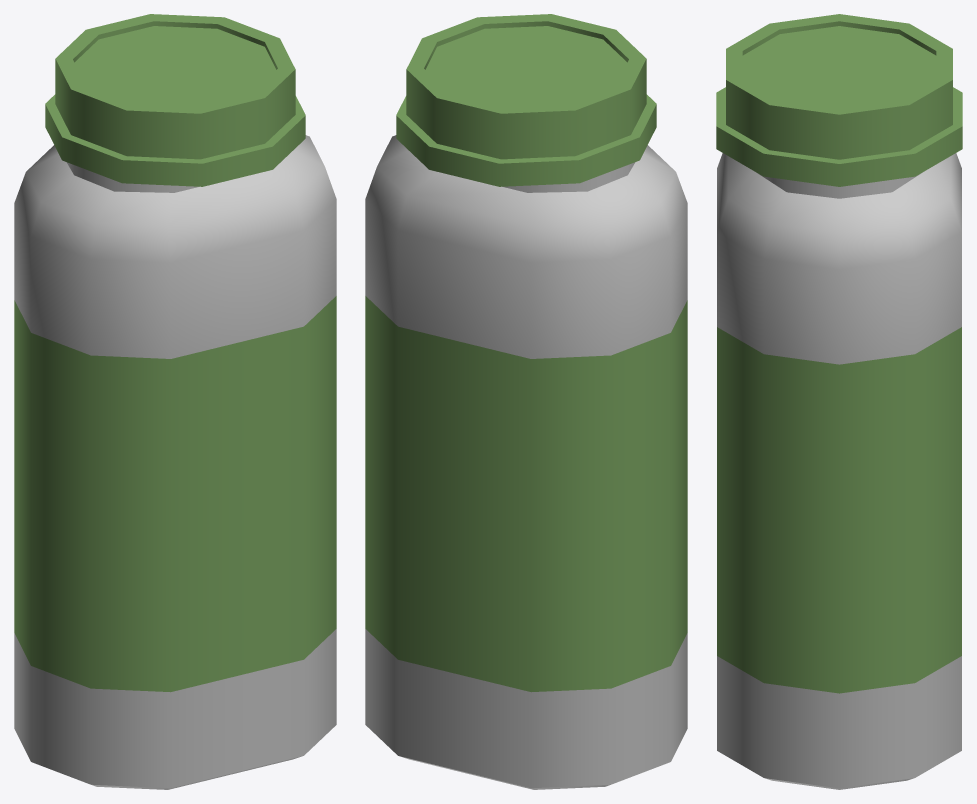
Rendered from BabyPowder_01.fbx.
3 renders of one model, left to right at view 1: azimuth 30°, elevation 25°; view 2: azimuth 150°, elevation 25°; view 3: azimuth 270°, elevation 25°, orthographic.
Visible parts, largest first — view 1: BabyPowder_01, BabyPowder_01_Lid; view 2: BabyPowder_01, BabyPowder_01_Lid; view 3: BabyPowder_01, BabyPowder_01_Lid.
Part boxes in pixels (x1=…): BabyPowder_01: x1=14, y1=94, x2=336, y2=789; BabyPowder_01_Lid: x1=55, y1=14, x2=295, y2=159; BabyPowder_01: x1=365, y1=94, x2=687, y2=789; BabyPowder_01_Lid: x1=406, y1=14, x2=646, y2=159; BabyPowder_01: x1=716, y1=87, x2=962, y2=789; BabyPowder_01_Lid: x1=726, y1=14, x2=952, y2=159.
Bounding box in the file's own units: 0.0894 × 0.1982 × 0.0668.
